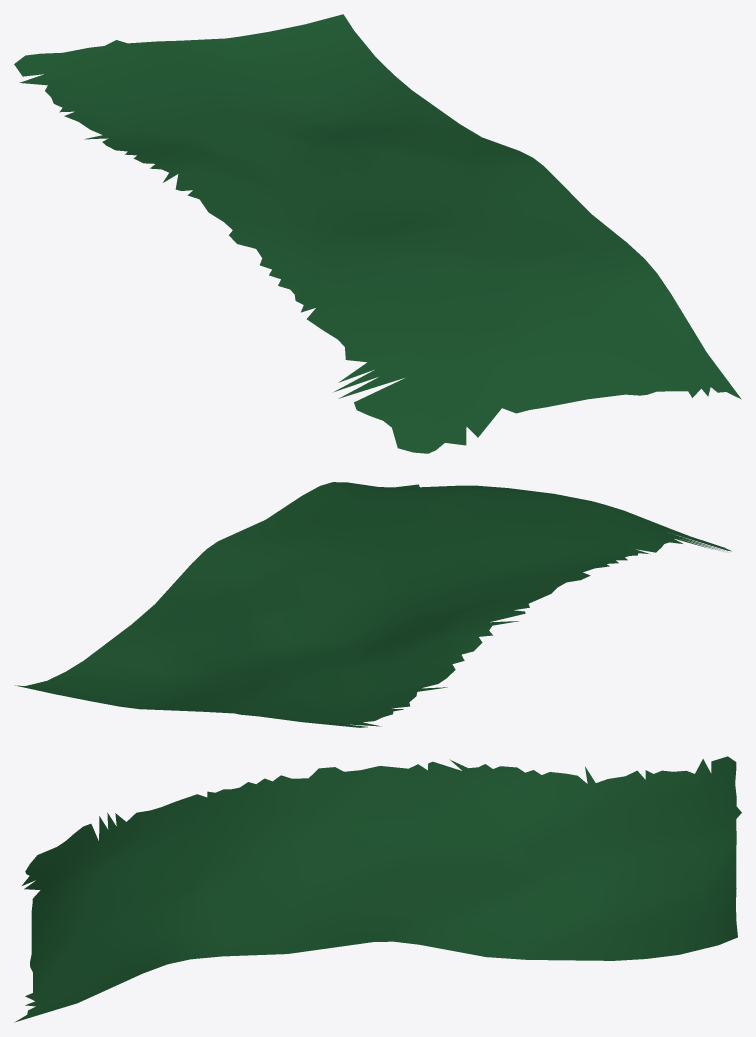
The model's file is payo_land_xm5_y0_lod2.glb.
3 renders of one model, top to bottom at view 1: azimuth 30°, elevation 25°; view 2: azimuth 150°, elevation 25°; view 3: azimuth 270°, elevation 25°, orthographic. The views are drawn at different scales.
Visible parts, largest first — view 1: payo_land_xm5_y0; view 2: payo_land_xm5_y0; view 3: payo_land_xm5_y0.
Boxes of the visible parts, x1,y1,x2,y2 form: payo_land_xm5_y0: (14, 14, 741, 453); payo_land_xm5_y0: (15, 482, 731, 727); payo_land_xm5_y0: (14, 756, 741, 1022).
Size of the model in its own units: 136 by 47.68 by 264.
